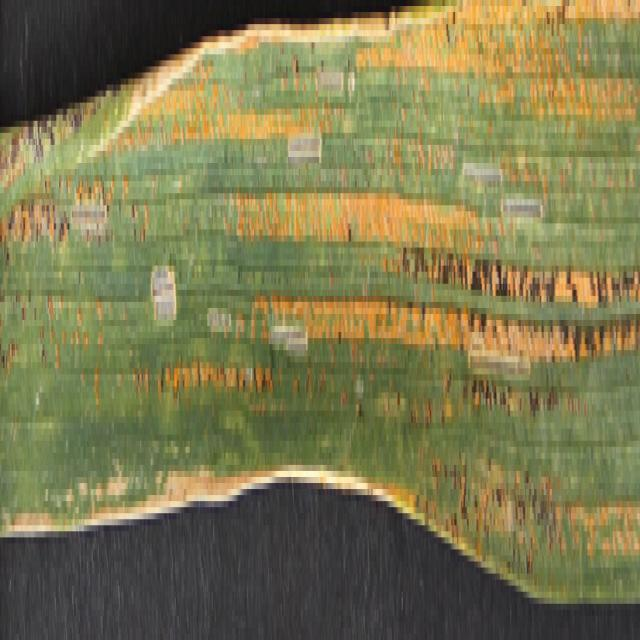leaf rust: (1, 6, 637, 531)
